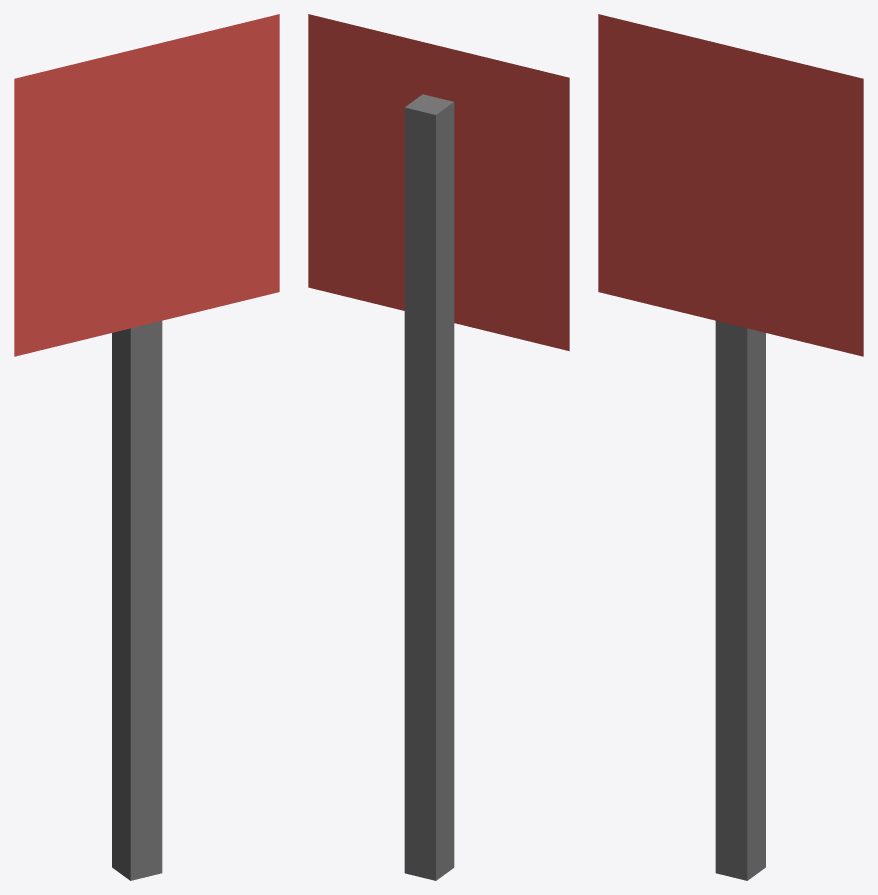
The model's file is Signpost1_Model.fbx.
3 views of the same model, side by side, from view 1: azimuth 30°, elevation 25°; view 2: azimuth 150°, elevation 25°; view 3: azimuth 330°, elevation 25° (orthographic).
Parts seen in each view (by area): view 1: Signpost_square; view 2: Signpost_square; view 3: Signpost_square.
Part boxes in pixels (box(x1,y1,x2,y2)): Signpost_square: box(14, 14, 279, 880); Signpost_square: box(308, 14, 569, 880); Signpost_square: box(598, 14, 863, 880).
Size of the model in its own units: 82 by 245 by 10.11.
